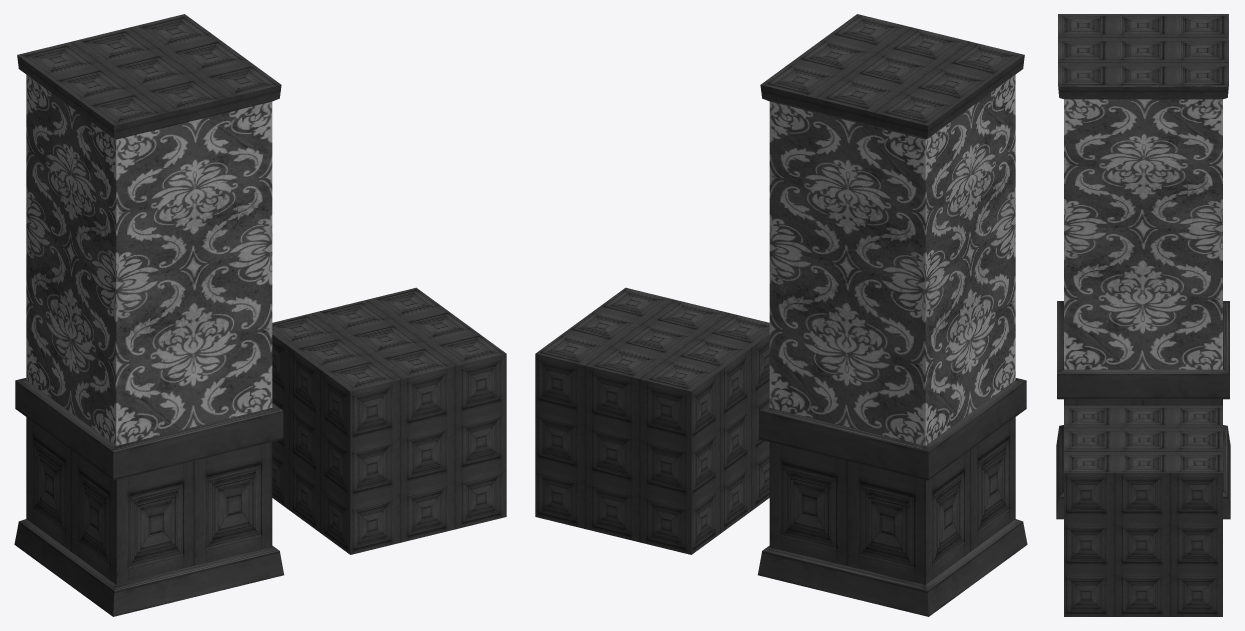
File: walls.fbx
3 views of the same model, side by side, from view 1: azimuth 30°, elevation 25°; view 2: azimuth 150°, elevation 25°; view 3: azimuth 270°, elevation 25° (orthographic). The views are drawn at different scales.
Visible parts, largest first — view 1: WallTop, Ceiling, WallBottom, WallMiddle; view 2: WallTop, Ceiling, WallBottom, WallMiddle; view 3: WallTop, Ceiling, WallMiddle, WallBottom.
Boxes of the visible parts, x1,y1,x2,y2 form: WallTop: (17, 14, 281, 285); Ceiling: (272, 287, 506, 554); WallBottom: (14, 378, 283, 616); WallMiddle: (26, 220, 272, 445); WallTop: (760, 14, 1024, 285); Ceiling: (535, 287, 769, 554); WallBottom: (758, 378, 1027, 616); WallMiddle: (769, 220, 1015, 445); WallTop: (1058, 14, 1228, 227); Ceiling: (1064, 405, 1222, 616); WallMiddle: (1064, 228, 1222, 369); WallBottom: (1056, 301, 1230, 519).
Size of the model in its own units: 510 by 600 by 219.
